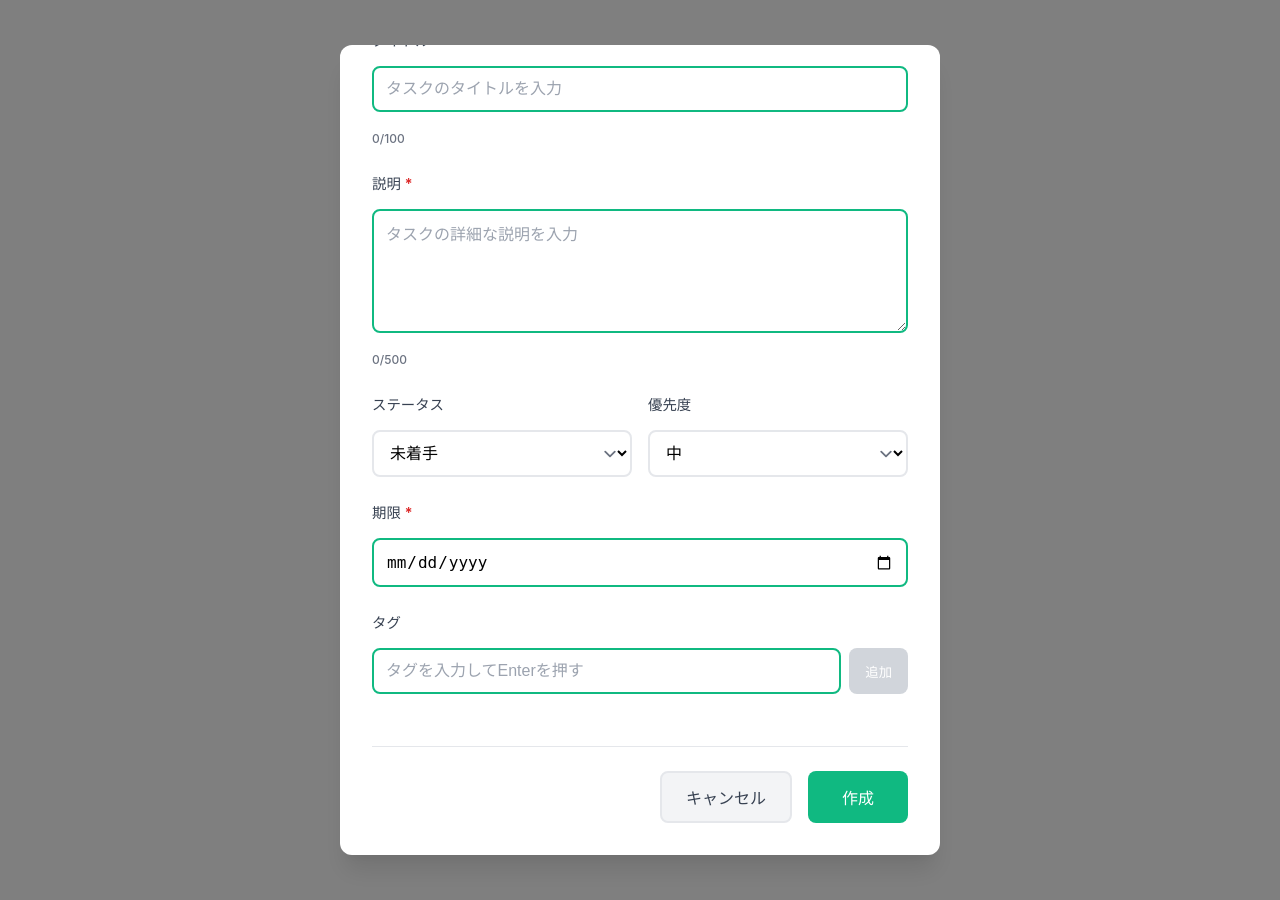
Scenario: TaskForm Component › validates required fields
(page scrolled)
Click the button "作成": click(858, 797) [808,771,908,823]
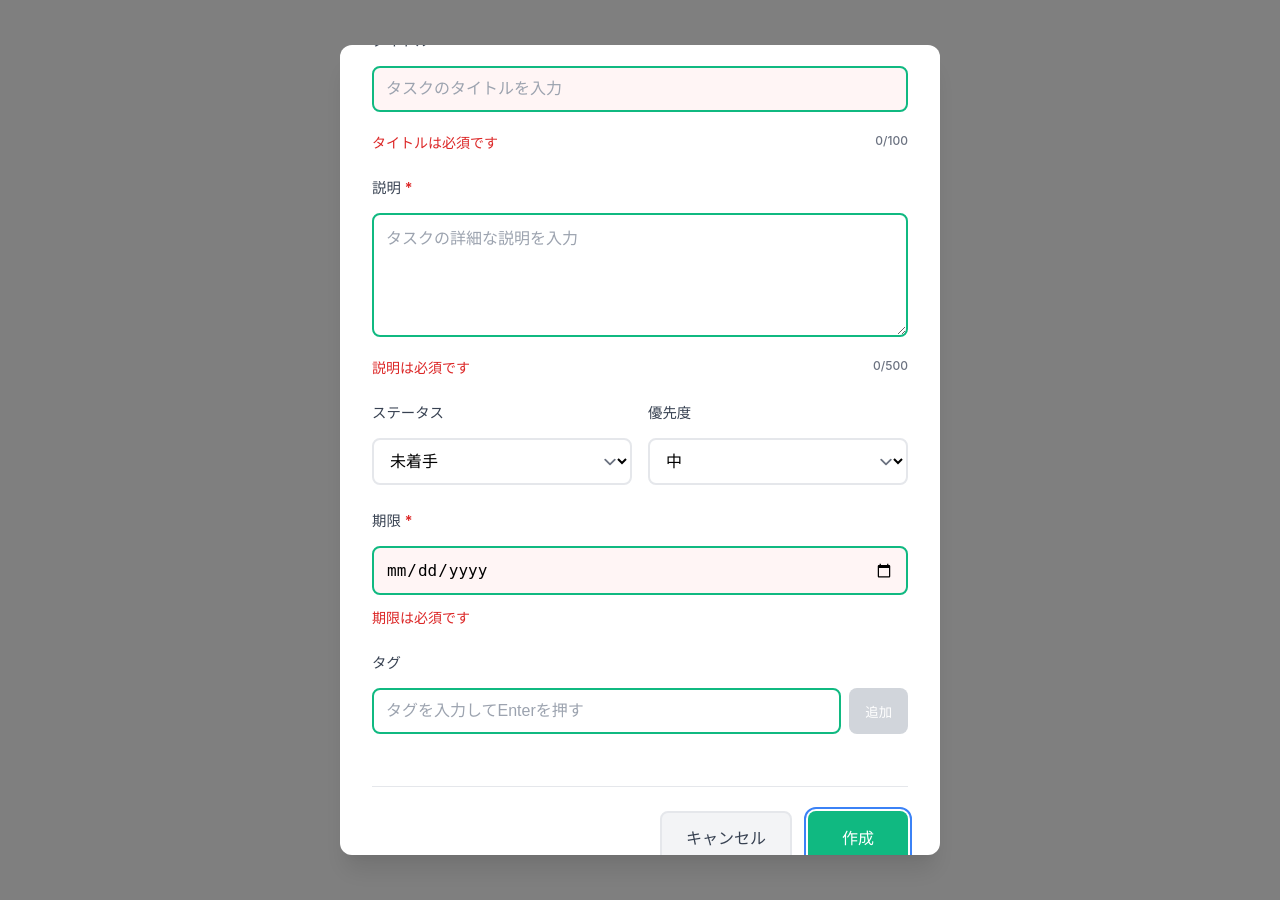
Now the text "タイトルは必須です" is shown, box [372,132,498,152]
Now the text "説明は必須です" is shown, box [372,357,470,377]
Now the text "期限は必須です" is shown, box [372,609,470,626]
